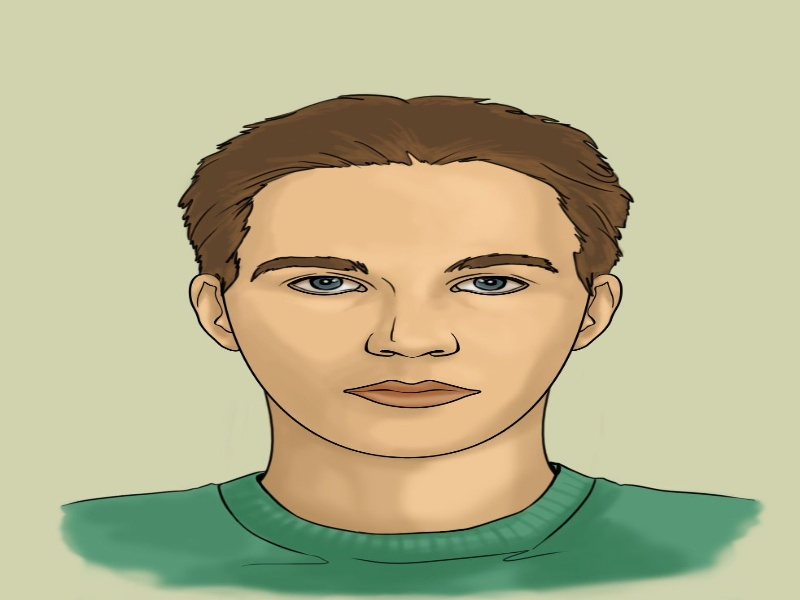face: (254, 226, 569, 425)
